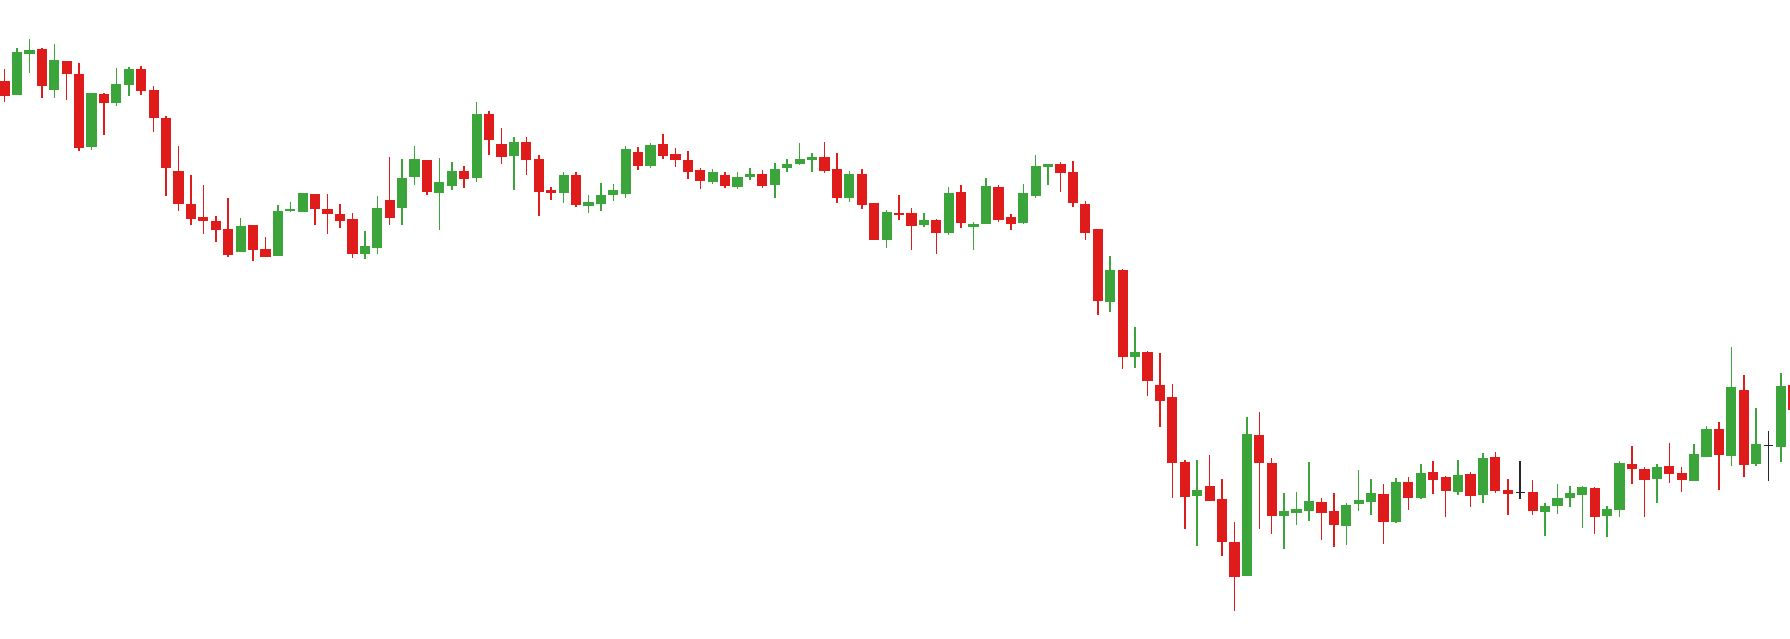sell: (978, 159, 1079, 220)
